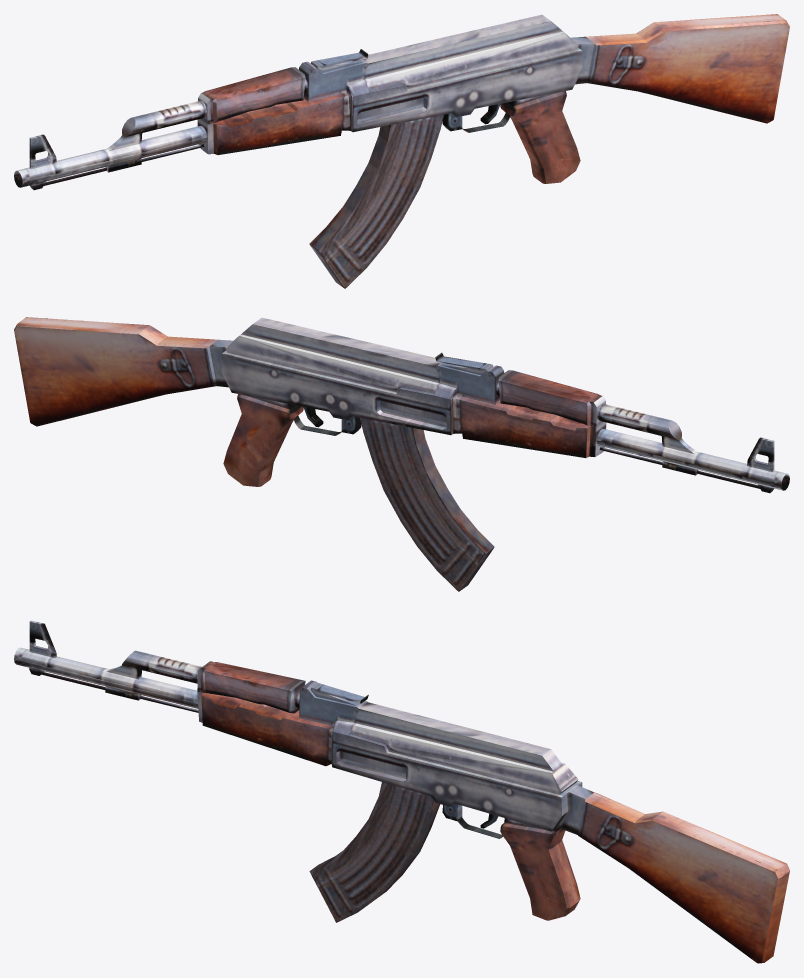
The picture shows the model from 3 angles, top to bottom: view 1: azimuth 30°, elevation 25°; view 2: azimuth 150°, elevation 25°; view 3: azimuth 330°, elevation 25°; orthographic projection.
Visible parts, largest first — view 1: ak.001_Cube.003; view 2: ak.001_Cube.003; view 3: ak.001_Cube.003.
Part boxes in pixels (x1=…): ak.001_Cube.003: x1=14, y1=14, x2=789, y2=288; ak.001_Cube.003: x1=14, y1=317, x2=789, y2=591; ak.001_Cube.003: x1=14, y1=620, x2=789, y2=963.
Bounding box in the file's own units: 4.73 × 1.35 × 0.2226.
1 material, 1 textured.
